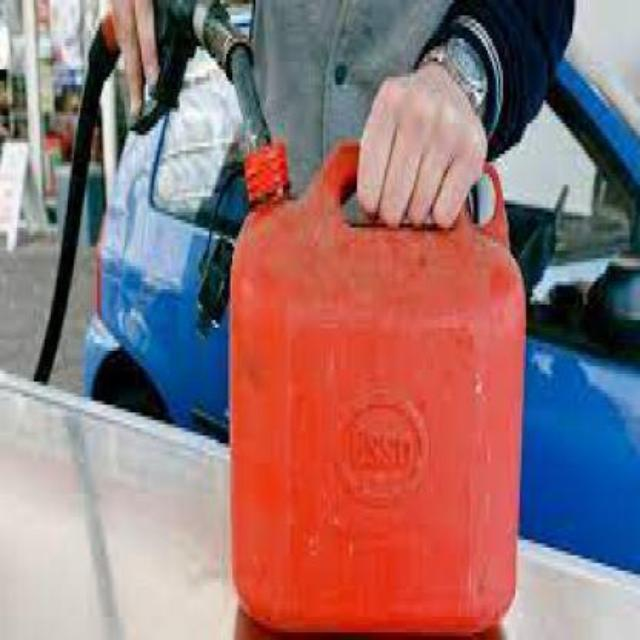chemical_plastic_gallon: (224, 108, 522, 636)
